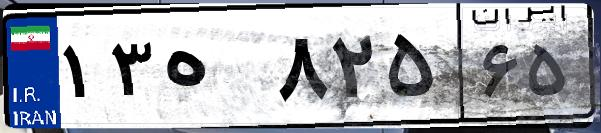1: (57, 26, 110, 100)
2: (330, 28, 385, 110)
3: (110, 28, 158, 98)
5: (385, 28, 445, 110), (525, 38, 570, 115)
6: (475, 38, 525, 113)
8: (270, 28, 330, 110)
ه: (158, 20, 270, 120)
